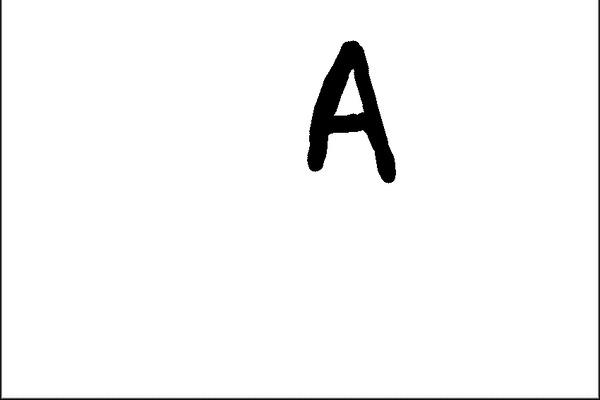A: (295, 31, 401, 193)
